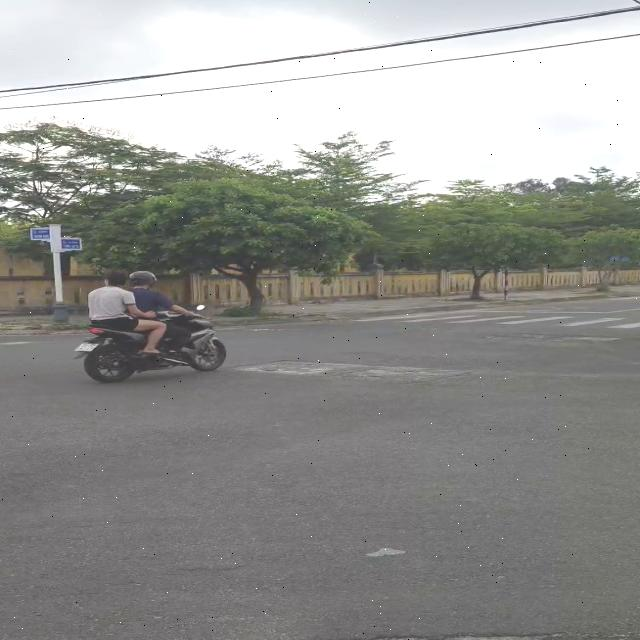helmet: (127, 270, 158, 285)
no_helmet: (103, 270, 128, 284)
